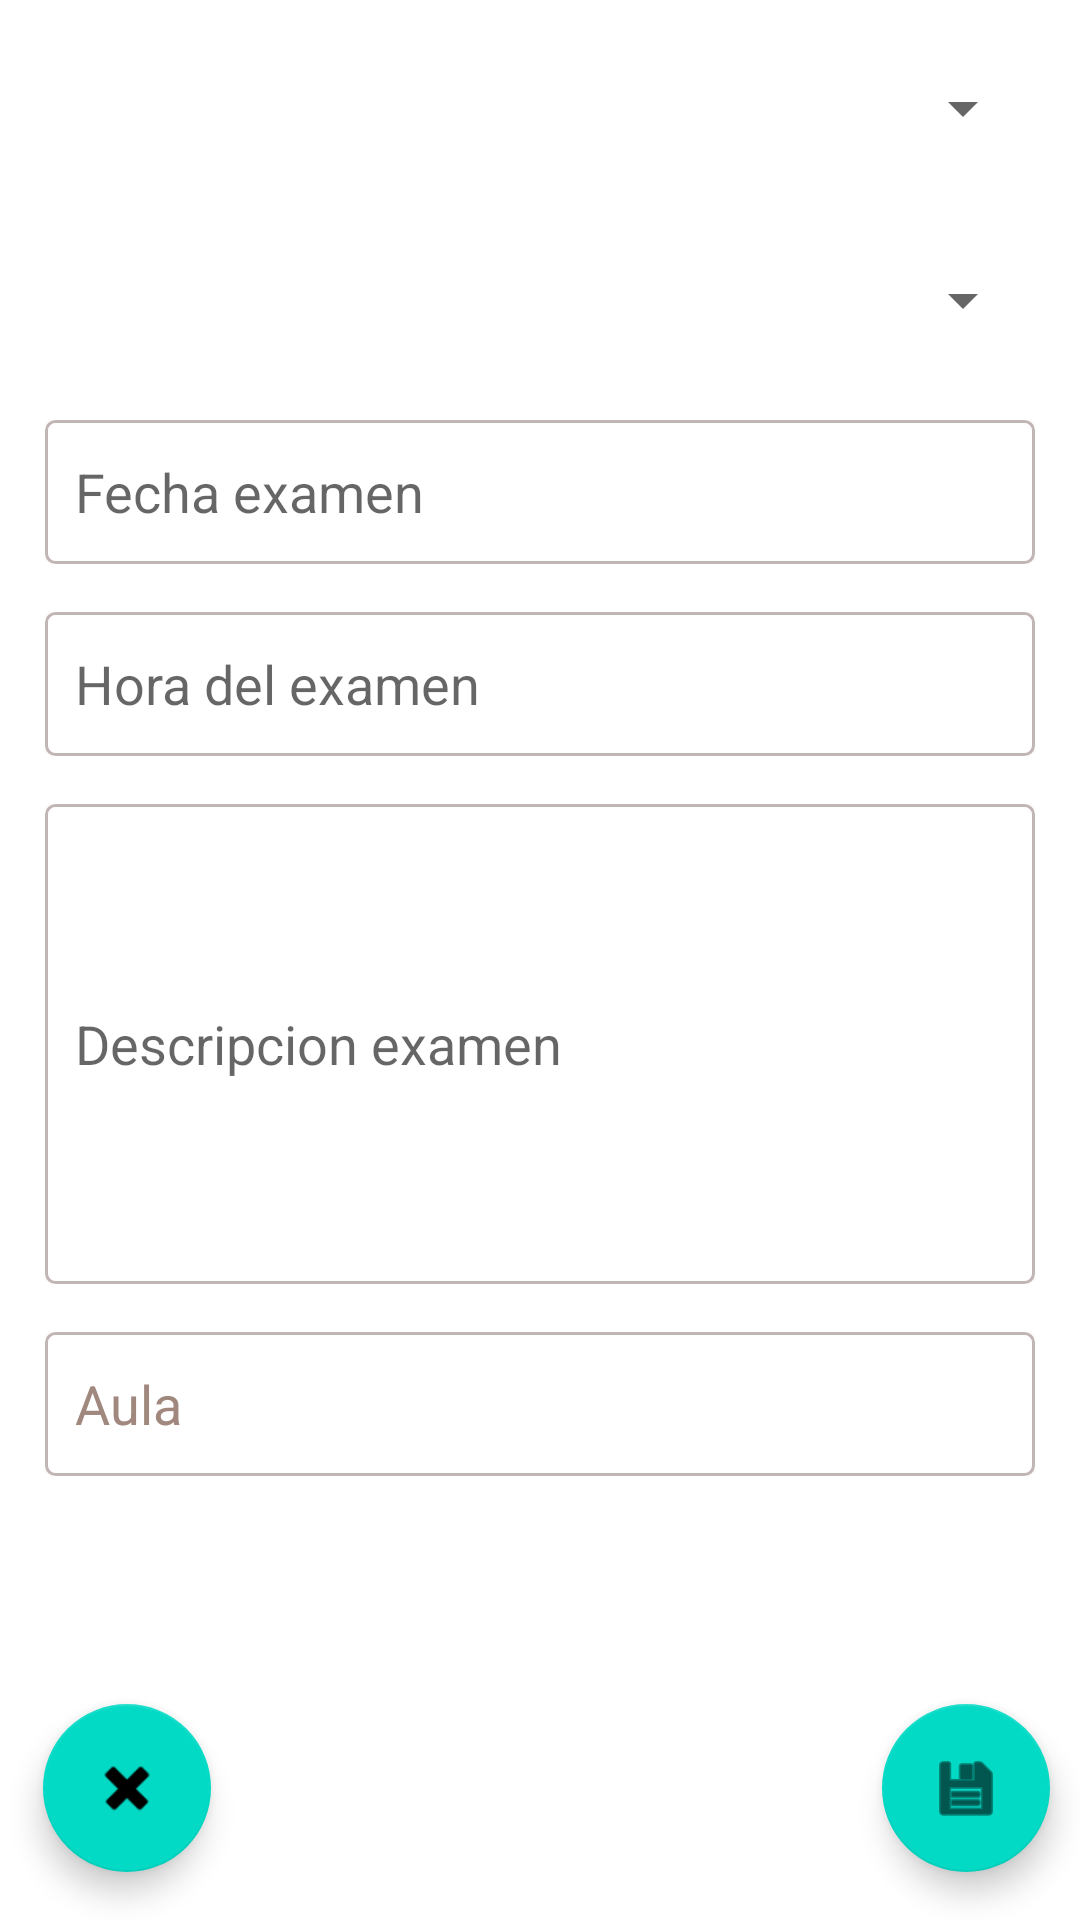

Icon bounding boxes for this 1080 × 1920 phone screenshot, format (x1, y1, x2, y2):
delete: (43, 1704, 211, 1872)
save: (882, 1704, 1050, 1872)
